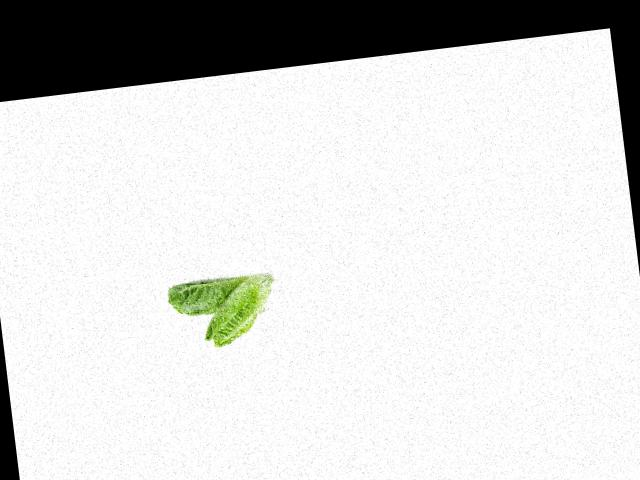lettuce: (158, 268, 255, 322)
